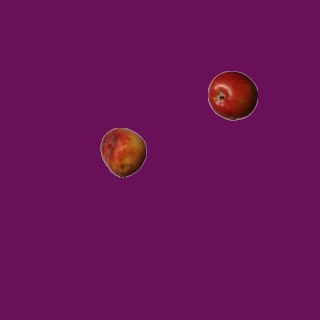Apple Braeburn: (207, 70, 257, 120)
Peach: (98, 127, 148, 177)
